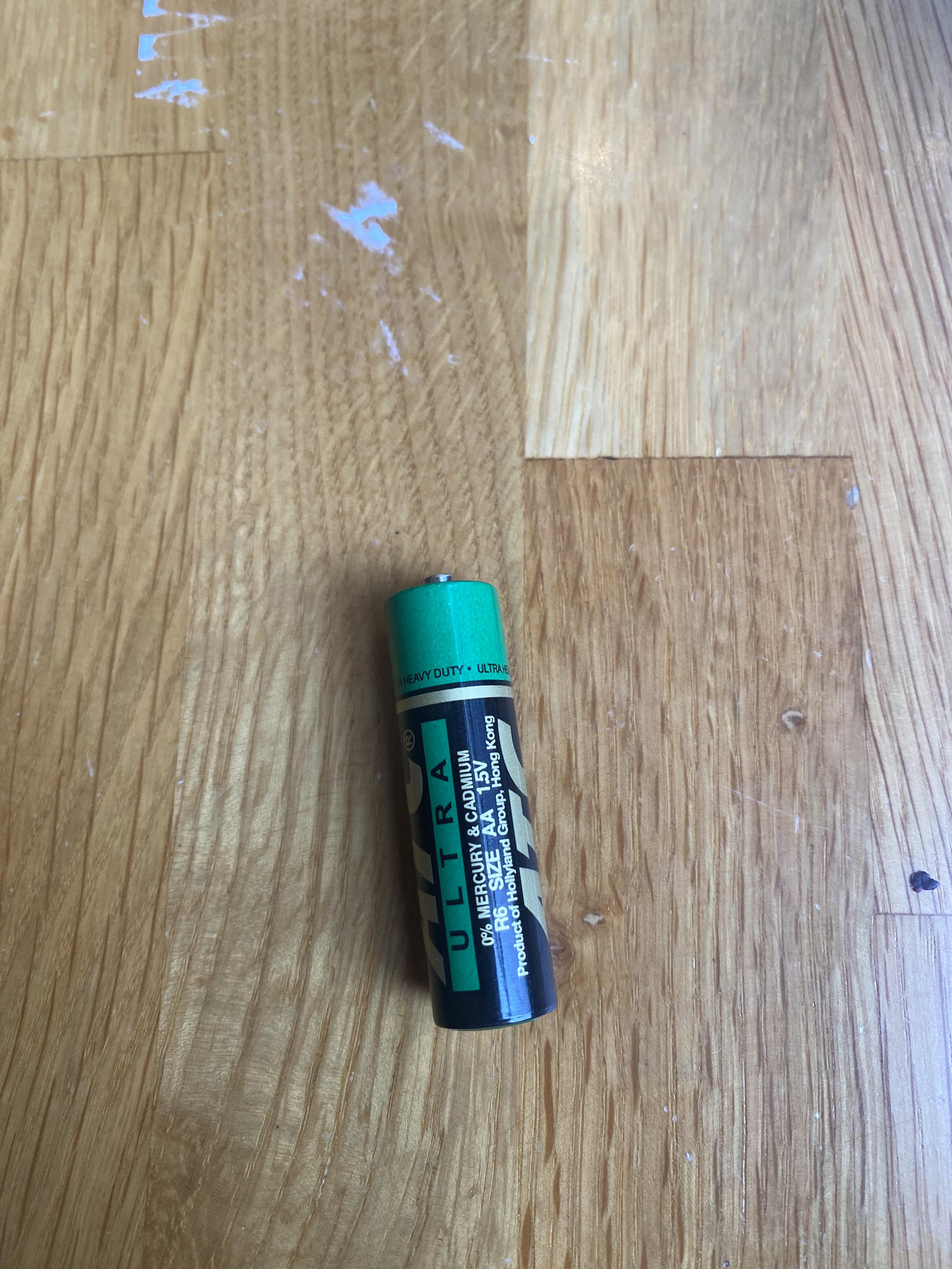AA: (382, 572, 559, 1031)
